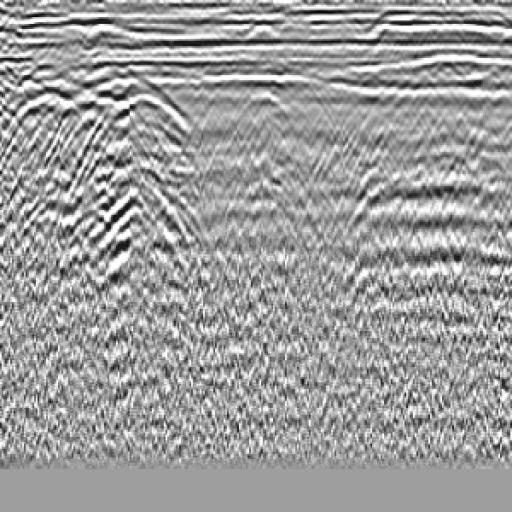non-metallic: (39, 62, 228, 301)
